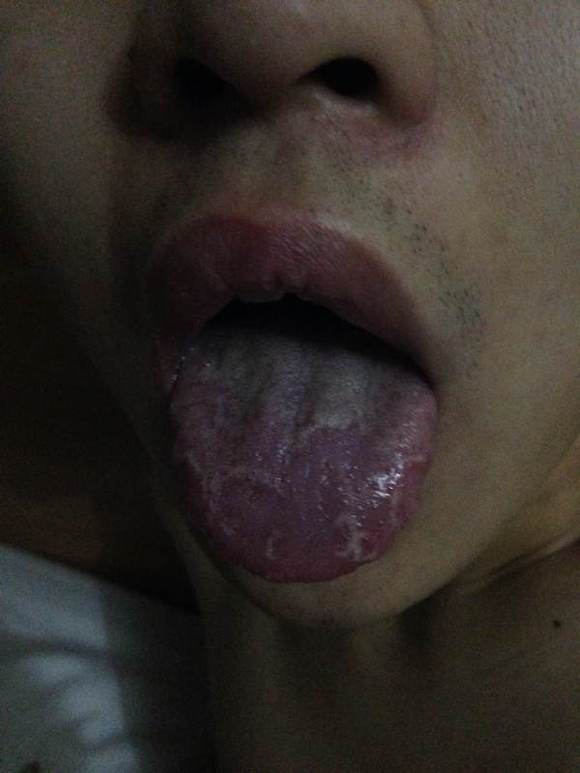baitaishe: (164, 326, 437, 580)
botaishe: (278, 407, 387, 521), (197, 466, 293, 559)
zishe: (164, 326, 437, 580)
